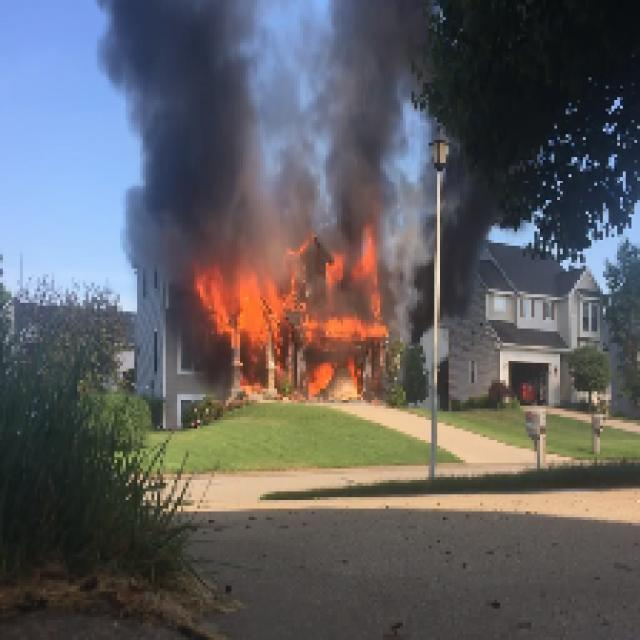Fire: (194, 266, 386, 343)
Smoke: (108, 2, 283, 258), (292, 2, 428, 228)
